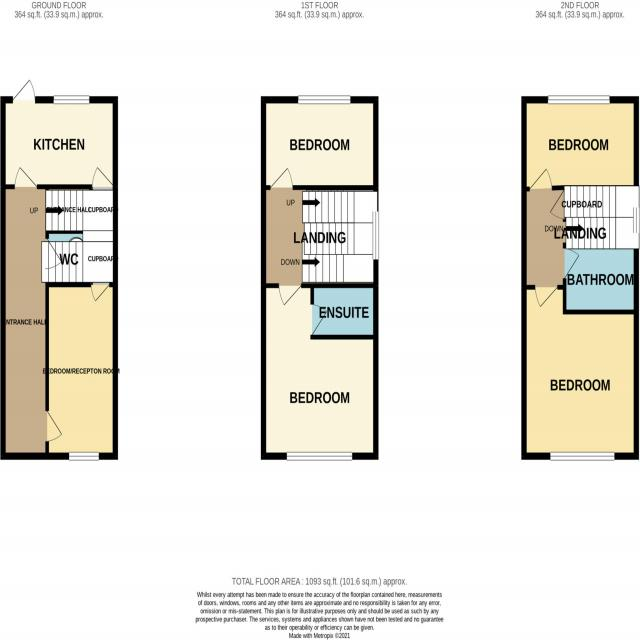DOOR: (308, 300, 332, 342), (275, 279, 304, 313), (267, 162, 297, 192), (527, 163, 555, 193), (532, 282, 559, 312), (561, 245, 582, 283), (44, 408, 65, 444), (90, 164, 116, 193), (11, 78, 37, 105), (13, 164, 39, 191), (89, 280, 111, 306)
ROOM: (260, 281, 380, 463), (520, 284, 640, 462), (0, 77, 120, 193), (45, 280, 120, 462), (258, 94, 380, 193), (520, 94, 639, 191)
WINDOW: (284, 448, 356, 464), (295, 93, 353, 109), (548, 450, 616, 462), (547, 94, 611, 106), (370, 208, 382, 262), (52, 93, 90, 106), (67, 450, 100, 462)
